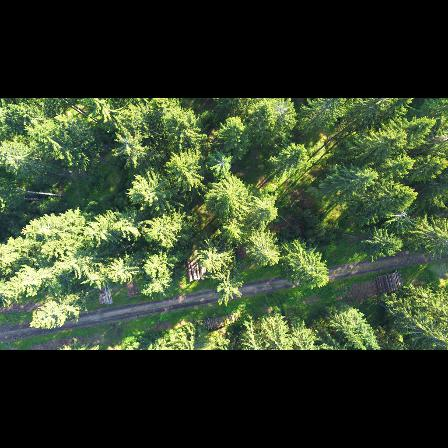Sick: (384, 204, 416, 230), (206, 150, 236, 176)
